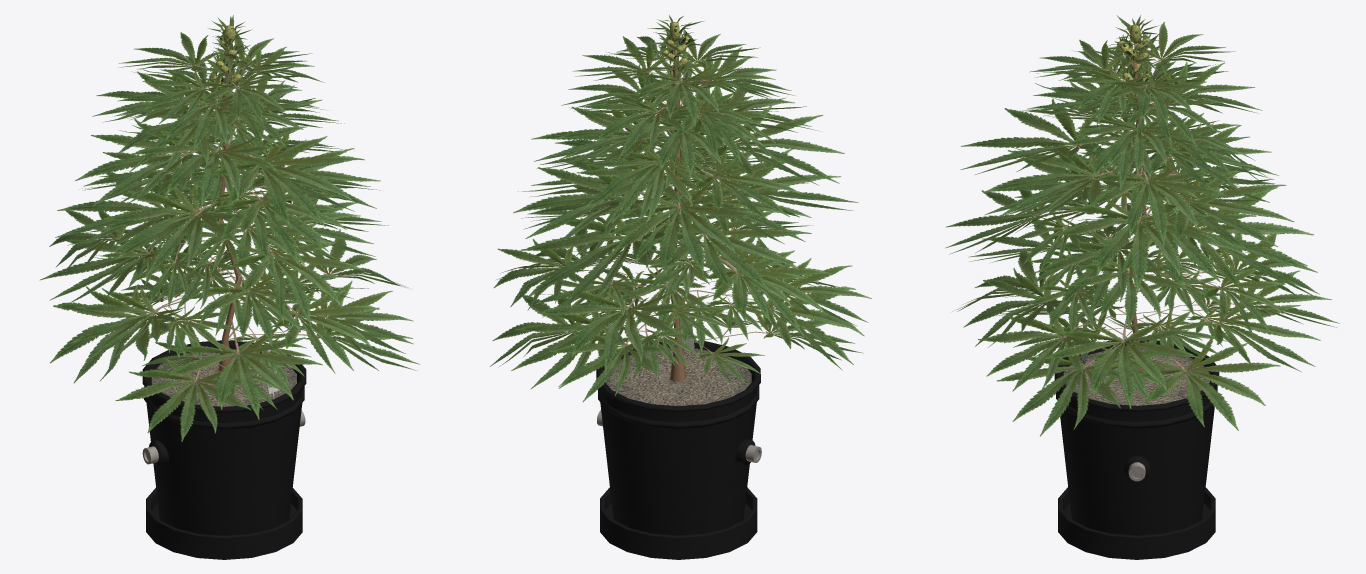
File: cannabis.glb
3 views of the same model, side by side, from view 1: azimuth 30°, elevation 25°; view 2: azimuth 150°, elevation 25°; view 3: azimuth 270°, elevation 25° (orthographic).
Parts seen in each view (by area): view 1: Weed Plant Medium_a; view 2: Weed Plant Medium_a; view 3: Weed Plant Medium_a.
Boxes of the visible parts, x1,y1,x2,y2 form: Weed Plant Medium_a: (39, 15, 419, 559); Weed Plant Medium_a: (490, 15, 871, 559); Weed Plant Medium_a: (945, 15, 1339, 559).
Size of the model in its own units: 1.2 by 1.55 by 1.18.
6 materials, 6 textured.
